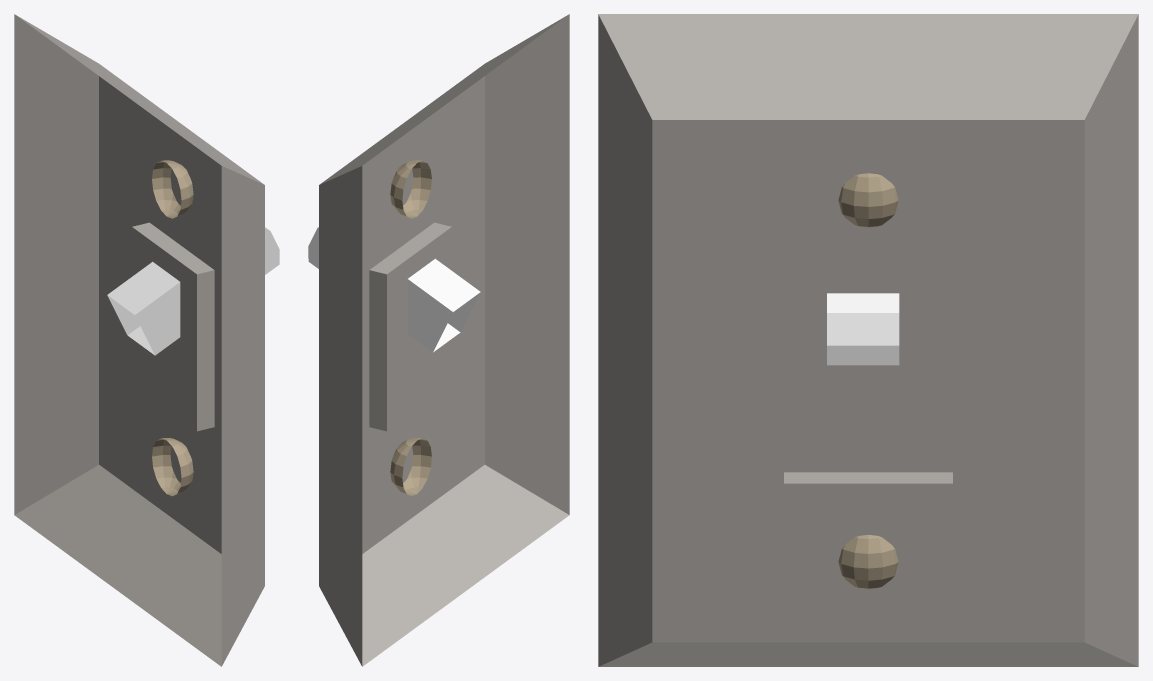
Rendered from Switch 1.fbx.
3 views of the same model, side by side, from view 1: azimuth 30°, elevation 25°; view 2: azimuth 150°, elevation 25°; view 3: azimuth 270°, elevation 25° (orthographic). The views are drawn at different scales.
Parts seen in each view (by area): view 1: Cube; view 2: Cube; view 3: Cube.
Part boxes in pixels (left/top/right/bottom): Cube: left=14, top=14, right=279, bottom=666; Cube: left=308, top=14, right=569, bottom=666; Cube: left=598, top=14, right=1138, bottom=666.
Size of the model in its own units: 60.91 by 200 by 150.
